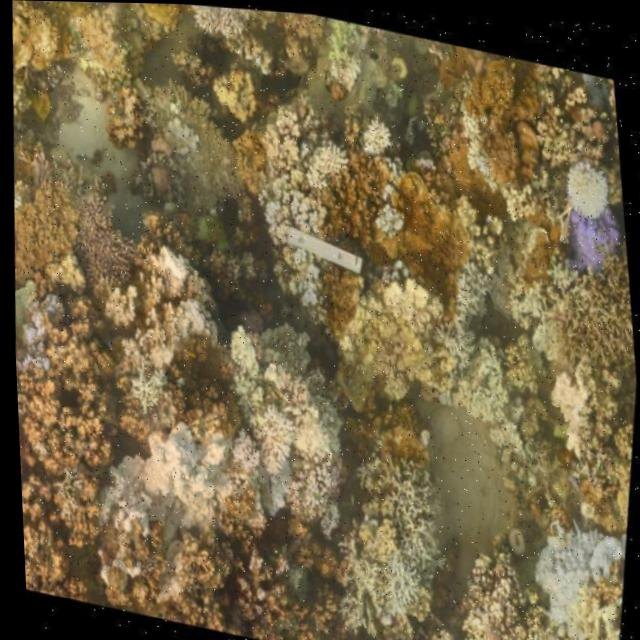Bleached Coral: (77, 400, 250, 550), (335, 447, 458, 605), (226, 385, 354, 533), (513, 494, 635, 640), (217, 320, 328, 419), (243, 175, 333, 297), (501, 238, 586, 338), (141, 241, 227, 336), (537, 341, 599, 451), (439, 252, 498, 352), (10, 287, 61, 375), (117, 353, 178, 425), (561, 150, 620, 216), (305, 127, 359, 196), (192, 3, 269, 48), (457, 106, 499, 176), (353, 106, 399, 163), (163, 115, 203, 145), (407, 626, 490, 640)
